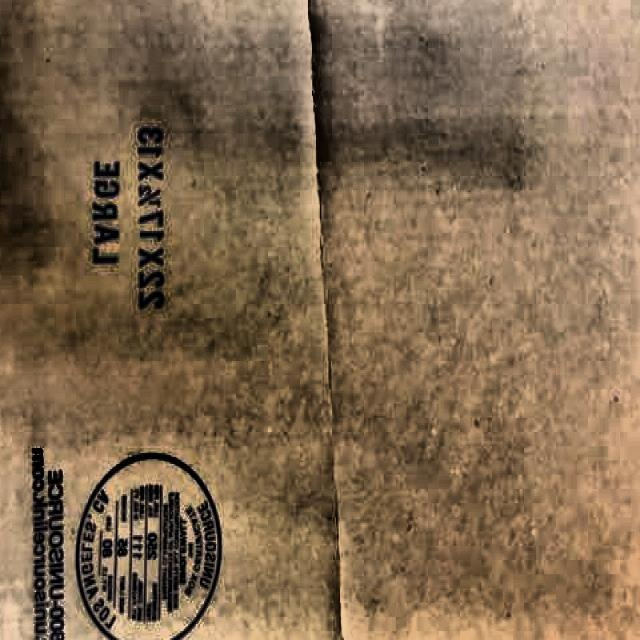cardboard: (0, 0, 347, 640)
